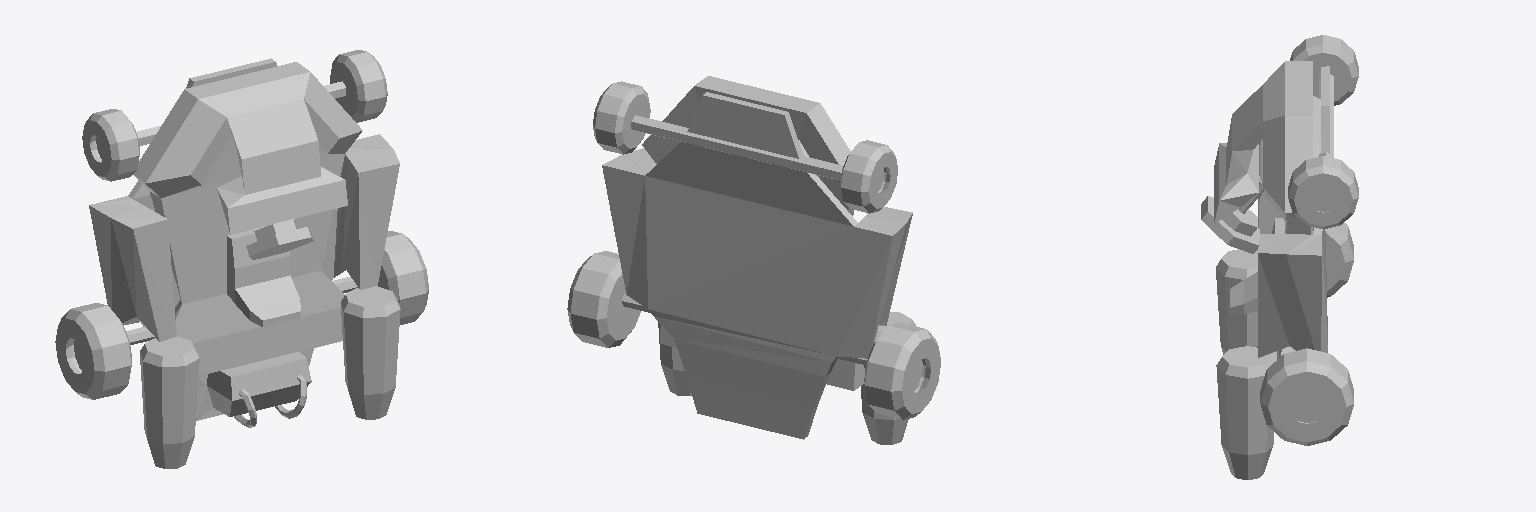
The model's file is KART_untextured.obj.
3 renders of one model, left to right at view 1: azimuth 30°, elevation 25°; view 2: azimuth 150°, elevation 25°; view 3: azimuth 270°, elevation 25°, orthographic.
Visible parts, largest first — view 1: Object.1; view 2: Object.1; view 3: Object.1.
Boxes of the visible parts, <box> form: Object.1: <box>55,50,428,468</box>; Object.1: <box>567,76,940,444</box>; Object.1: <box>1201,35,1358,479</box>.
Size of the model in its own units: 60.39 by 58.41 by 24.64.